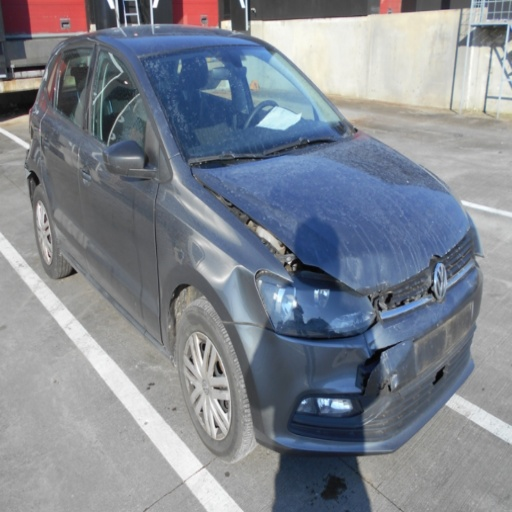dent: (213, 265, 272, 327), (326, 251, 373, 294), (371, 253, 394, 293)
